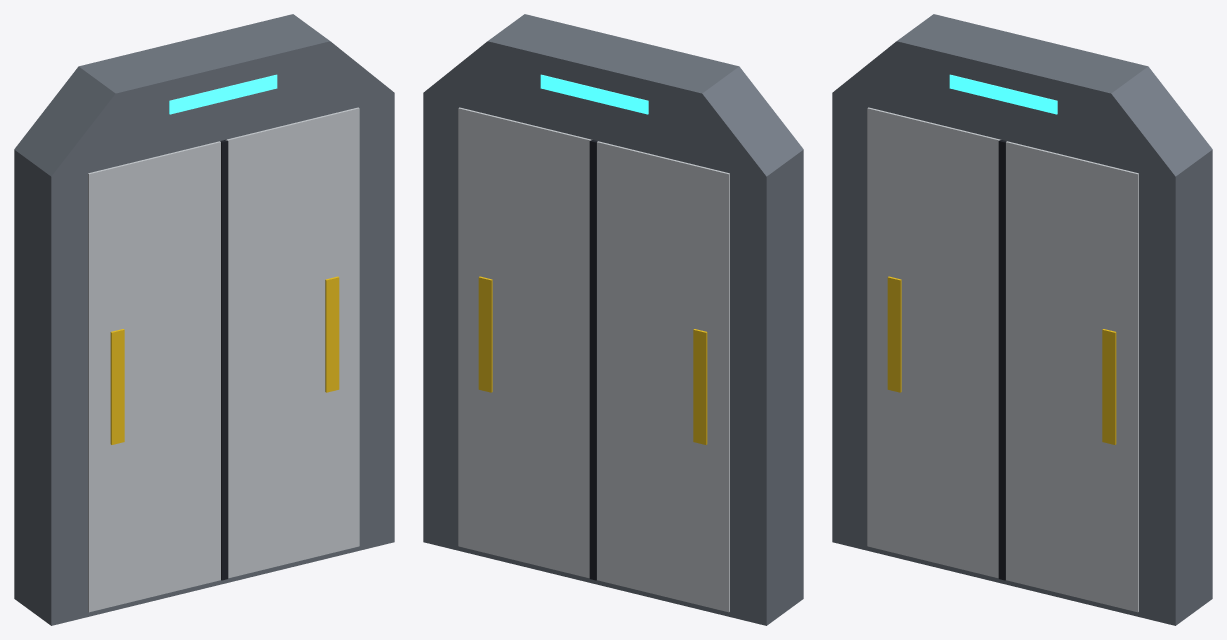
The model's file is sci_fi_door.glb.
The picture shows the model from 3 angles, left to right: view 1: azimuth 30°, elevation 25°; view 2: azimuth 150°, elevation 25°; view 3: azimuth 330°, elevation 25°; orthographic projection.
Parts seen in each view (by area): view 1: sci_fi_door; view 2: sci_fi_door; view 3: sci_fi_door.
Boxes of the visible parts, x1=… form: sci_fi_door: x1=14, y1=14, x2=394, y2=625; sci_fi_door: x1=423, y1=14, x2=803, y2=625; sci_fi_door: x1=832, y1=14, x2=1212, y2=625.
Size of the model in its own units: 1.6 by 2.3 by 0.34.
